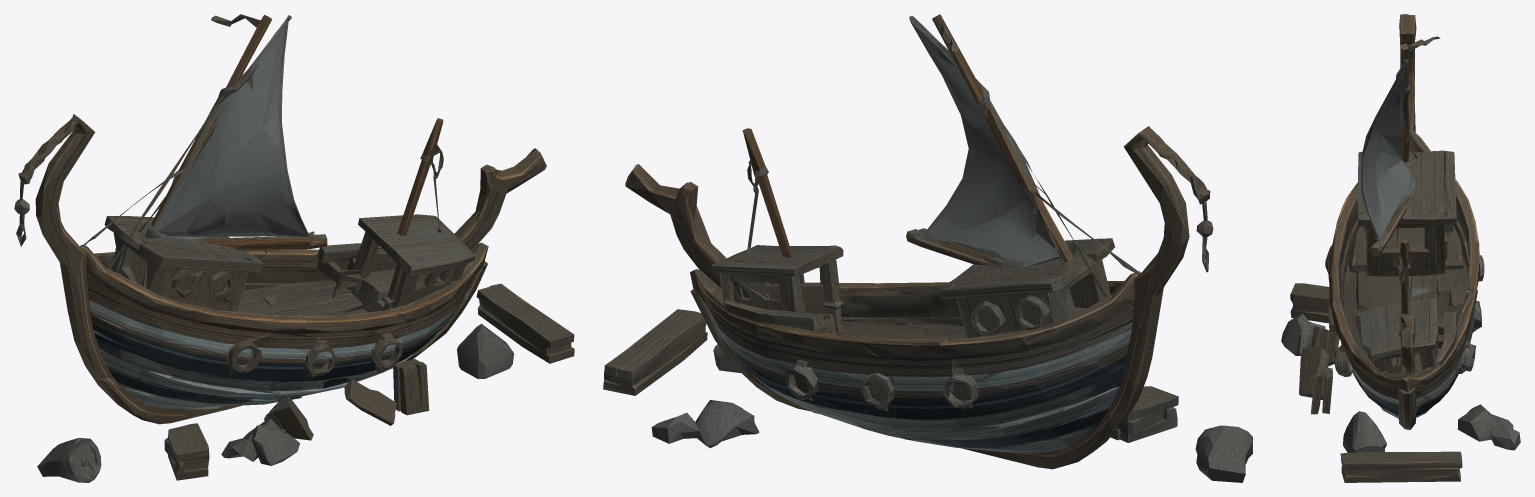
The model's file is wreck.glb.
The picture shows the model from 3 angles, left to right: view 1: azimuth 30°, elevation 25°; view 2: azimuth 150°, elevation 25°; view 3: azimuth 270°, elevation 25°; orthographic projection. The views are drawn at different scales.
Bounding box in the file's own units: 1.9 × 1.3 × 0.8667.
1 material, 1 textured.
